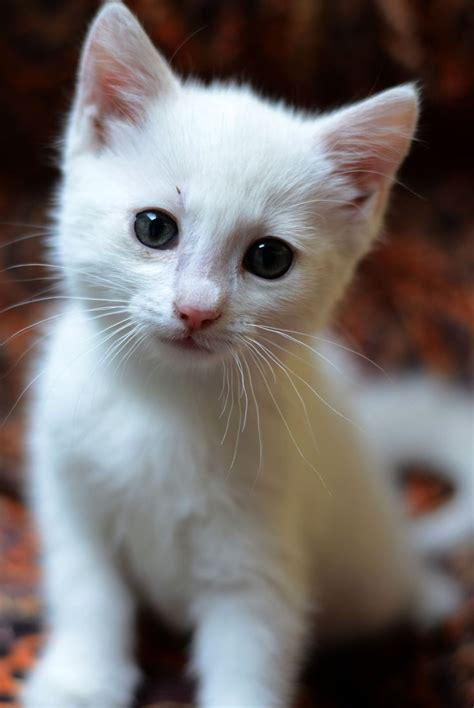cat: (22, 1, 416, 708)
